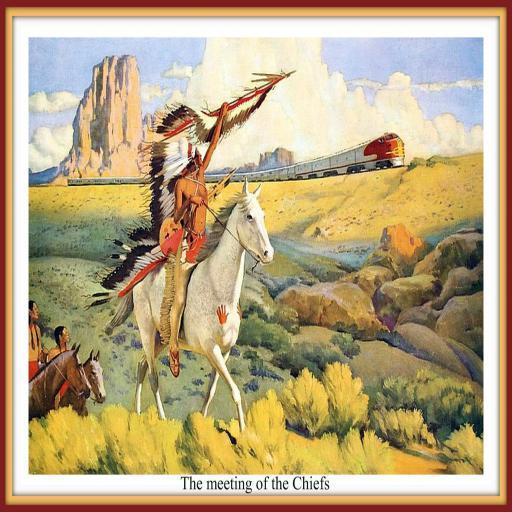horse: (105, 172, 276, 434), (27, 340, 93, 420), (60, 351, 106, 416)
